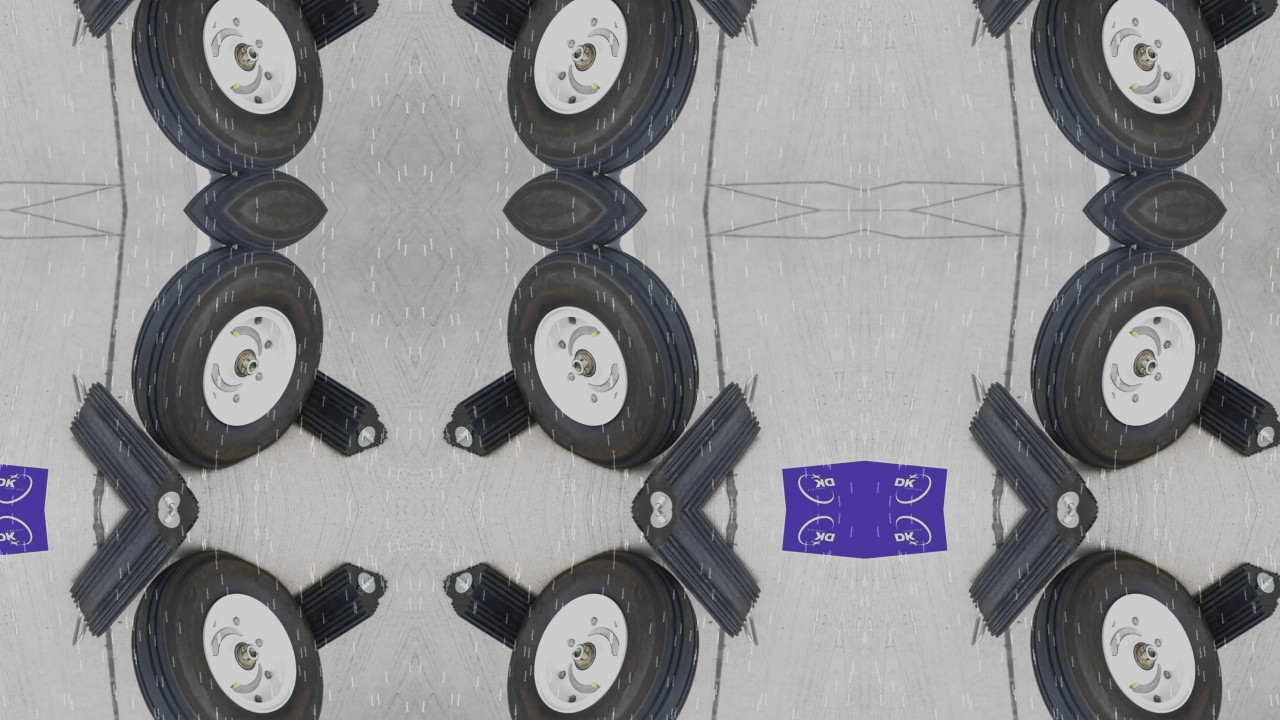chock: (59, 378, 211, 510), (619, 378, 771, 510), (959, 378, 1111, 510), (59, 510, 211, 642), (619, 510, 771, 642), (959, 510, 1111, 642), (262, 359, 394, 462), (436, 359, 568, 462), (262, 558, 394, 661), (436, 558, 568, 661), (1162, 359, 1280, 462), (1162, 558, 1280, 661), (262, 0, 394, 61), (436, 0, 568, 61), (1162, 0, 1280, 61), (59, 0, 211, 42), (619, 0, 771, 42), (959, 0, 1111, 42)
wheel: (124, 239, 330, 477), (500, 239, 706, 477), (1024, 239, 1230, 477), (124, 0, 330, 181), (500, 0, 706, 181), (1024, 0, 1230, 181), (124, 543, 330, 720), (500, 543, 706, 720), (1024, 543, 1230, 720)
